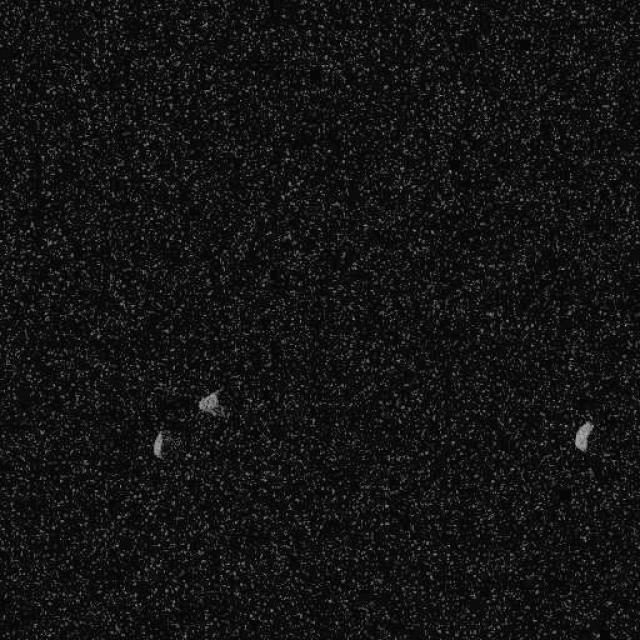D2: (196, 386, 229, 419), (572, 420, 594, 452), (151, 428, 164, 458)
